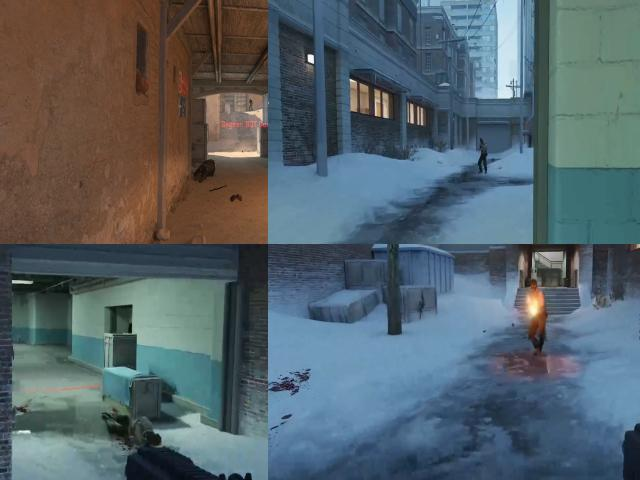CT: (249, 98, 253, 111)
CT-Head: (250, 99, 252, 100)
Dead: (97, 406, 165, 442), (194, 159, 217, 180)
T: (526, 285, 548, 324), (478, 137, 489, 163)
T-Head: (528, 278, 539, 295), (478, 138, 486, 150)
